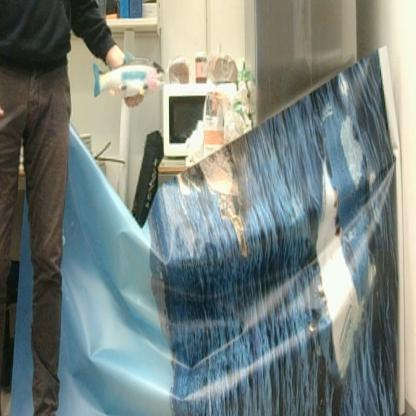rubberfish: (92, 50, 169, 103)
